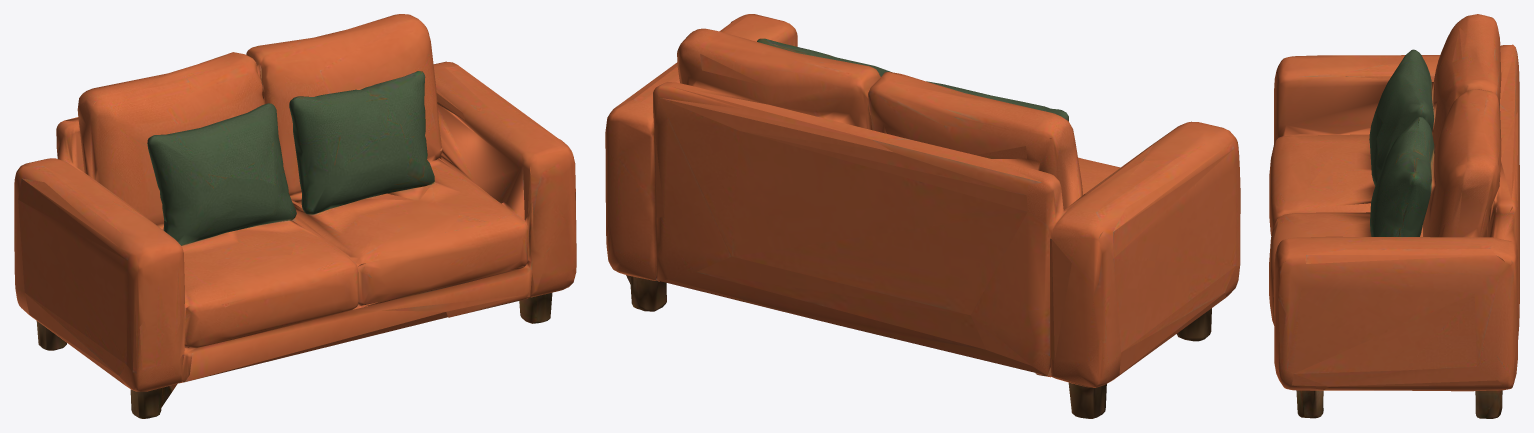
The model's file is sofa.gltf.
The picture shows the model from 3 angles, left to right: view 1: azimuth 30°, elevation 25°; view 2: azimuth 150°, elevation 25°; view 3: azimuth 270°, elevation 25°; orthographic projection. The views are drawn at different scales.
Visible parts, largest first — view 1: sofa; view 2: sofa; view 3: sofa.
Part boxes in pixels (x1,y1,x2,y2): sofa: [14, 14, 576, 418]; sofa: [605, 14, 1240, 418]; sofa: [1269, 14, 1519, 418].
Bounding box in the file's own units: 3.17 × 1.7 × 1.62.
1 material, 1 textured.
